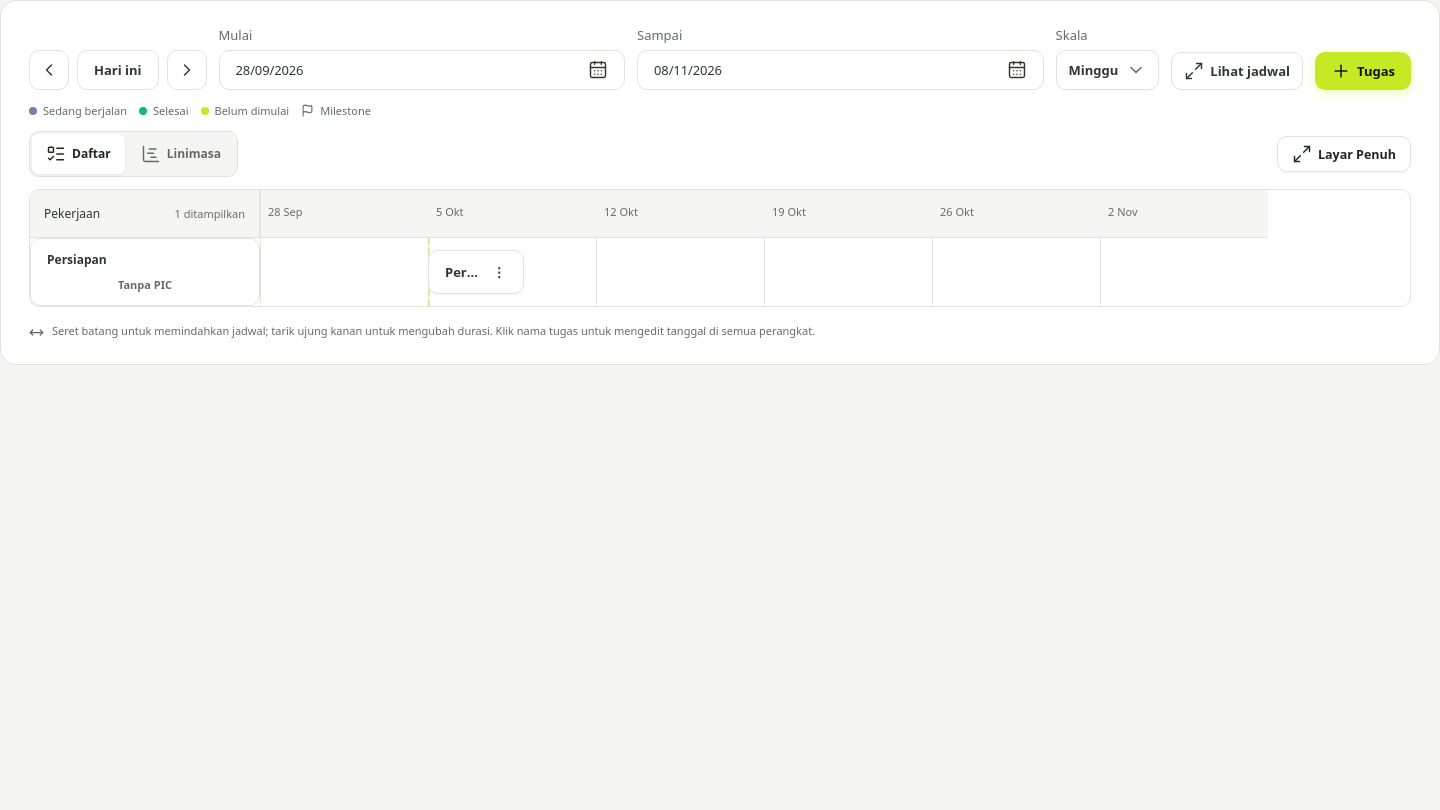
Test case: Jadwal fleksibel › gagal menyimpan tidak mengklaim jadwal tersimpan
Press ArrowRight in the button "Persiapan ⋮", box [428,250,524,294]
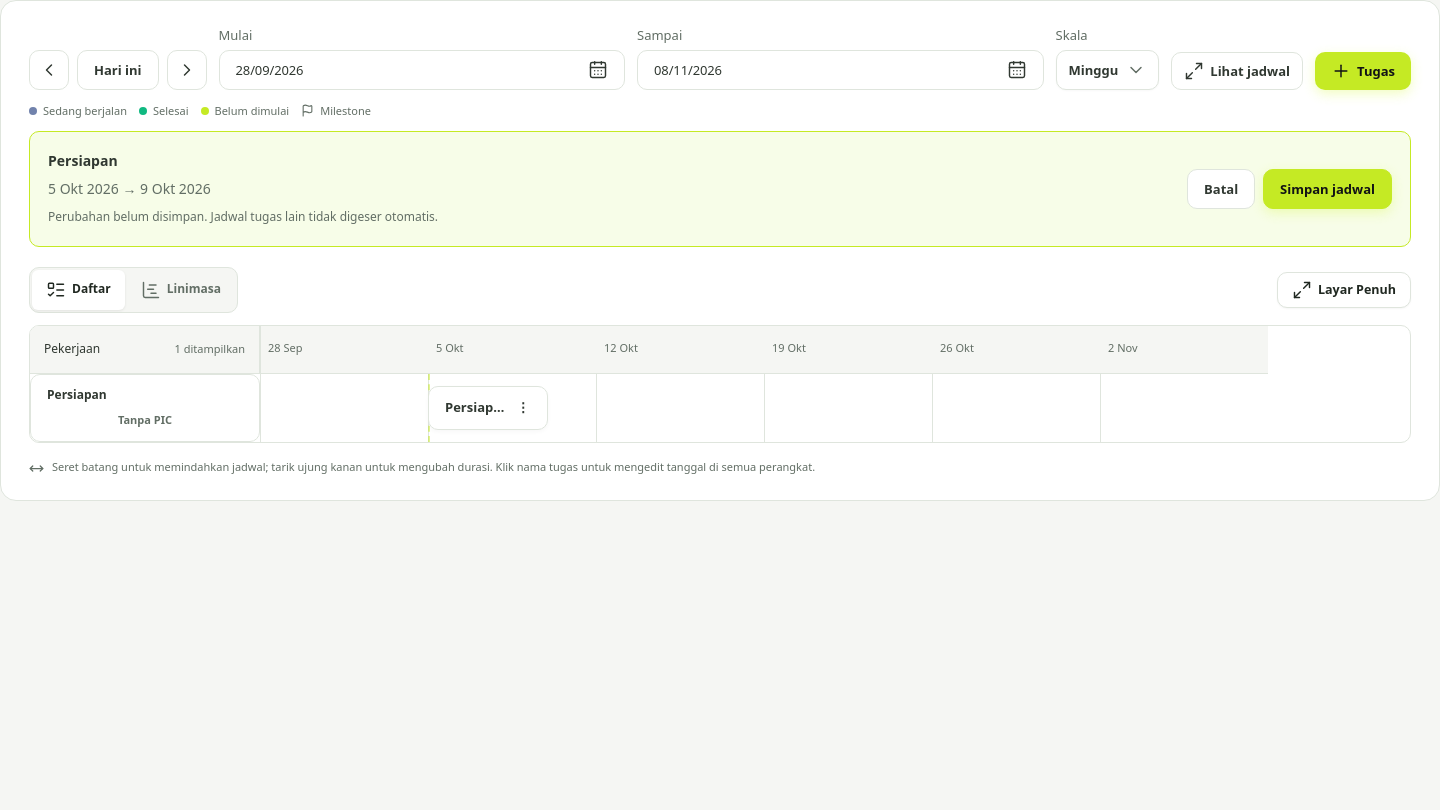
Click the button "Simpan jadwal" at (1328, 189), box [1263,169,1392,209]
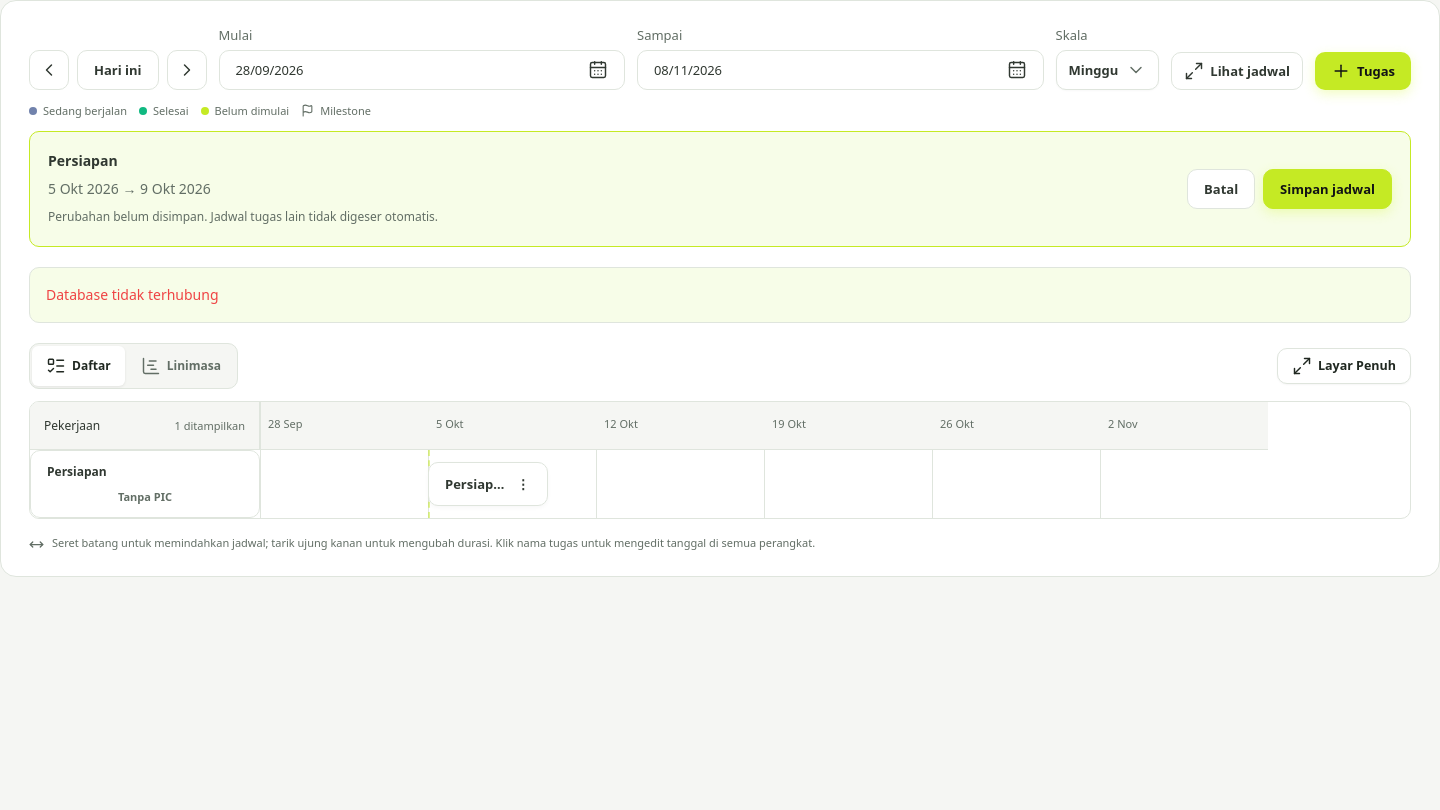
Expected: the button "Simpan jadwal" is shown, [1263,169,1392,209]
Expected: the message "Database tidak terhubung" is shown, [29,267,1411,323]
